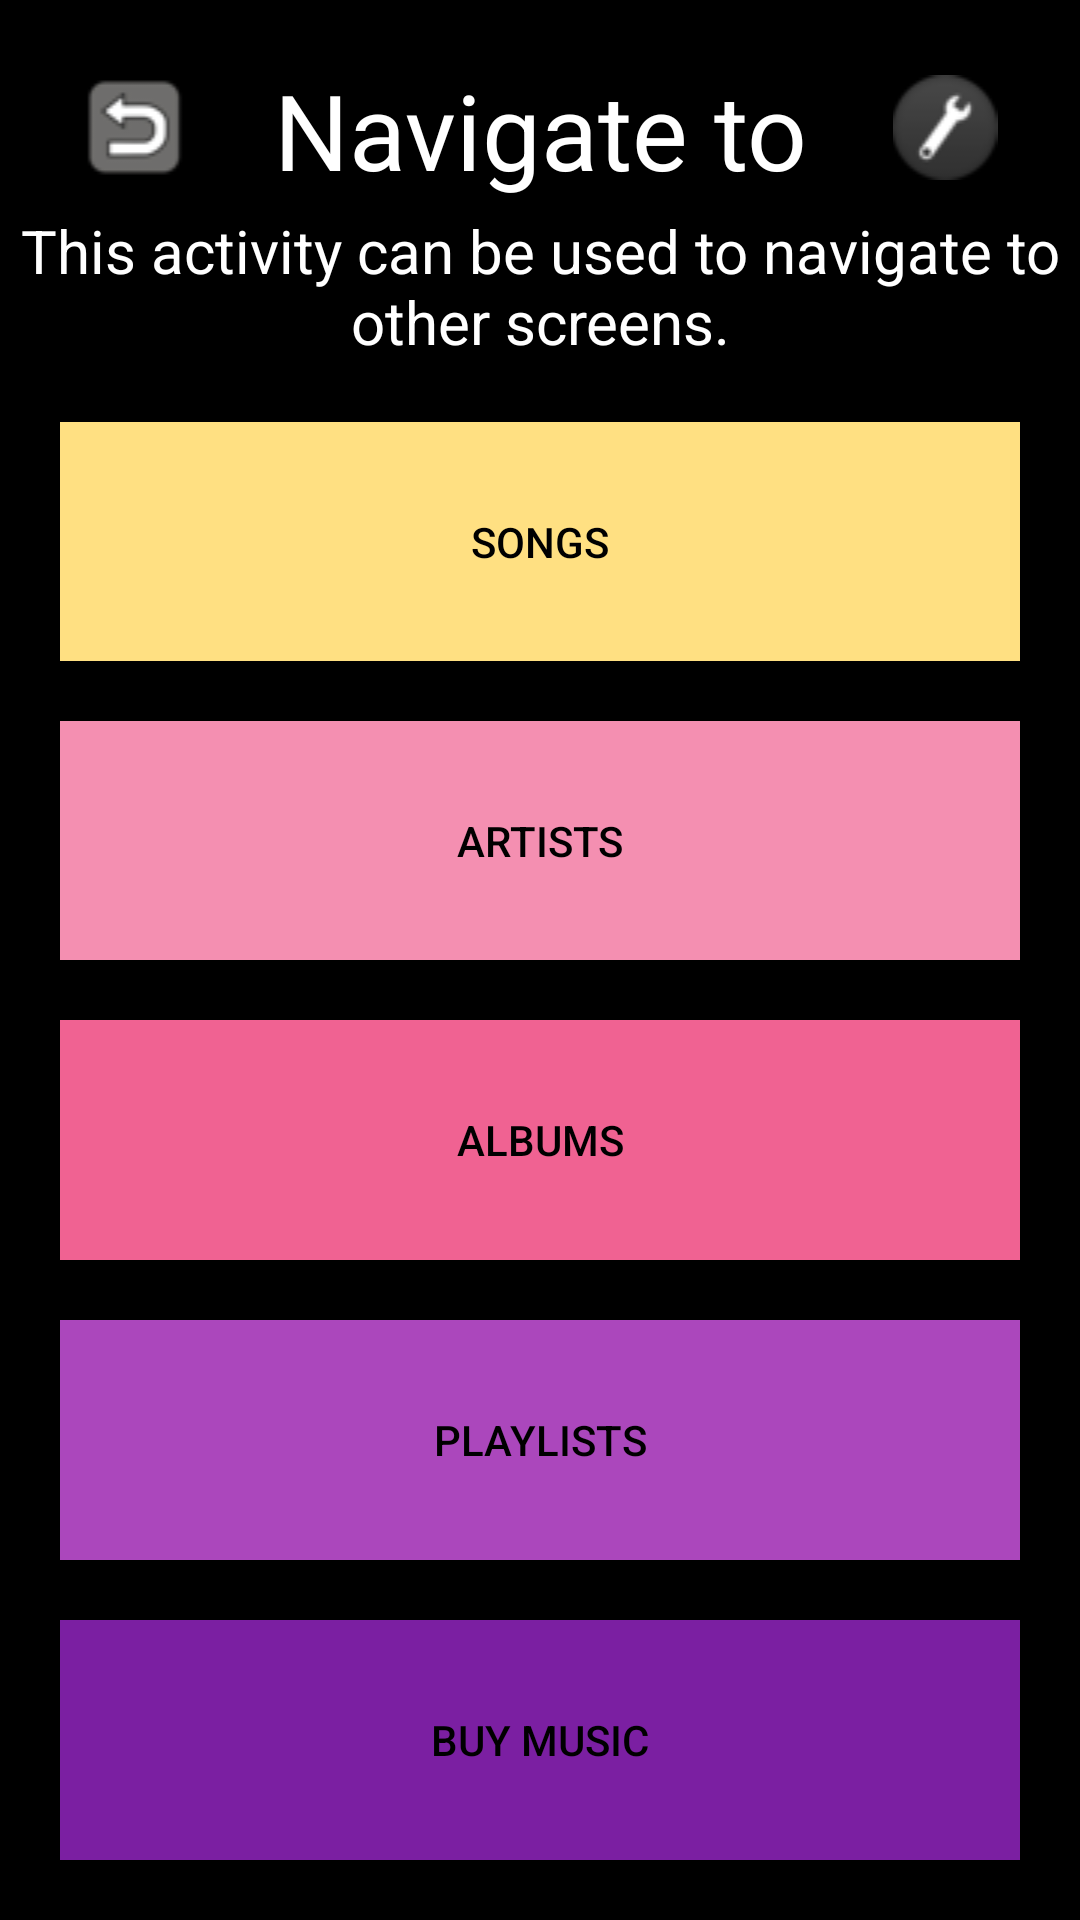

Named icons in this screenshot (1080px×1920px) and their bounding boxes, (x1, y1, x2, y2):
Back Button: (88, 81, 180, 174)
Settings: (893, 75, 998, 180)
